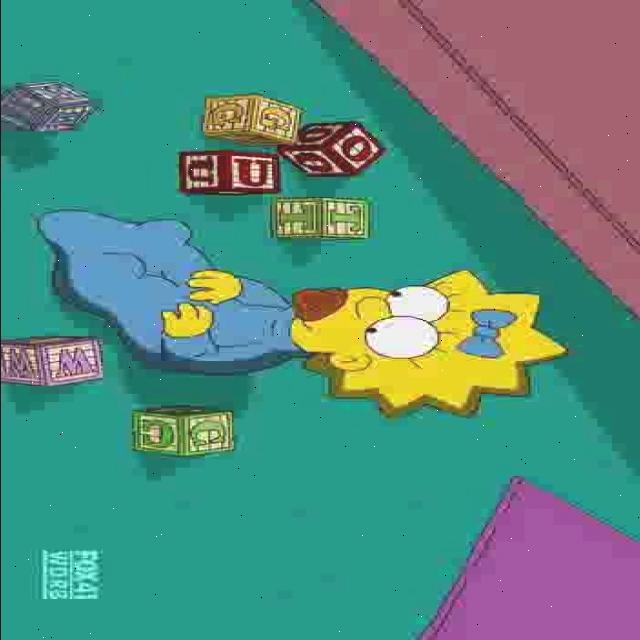Maggie Simpson: (281, 269, 570, 422)
